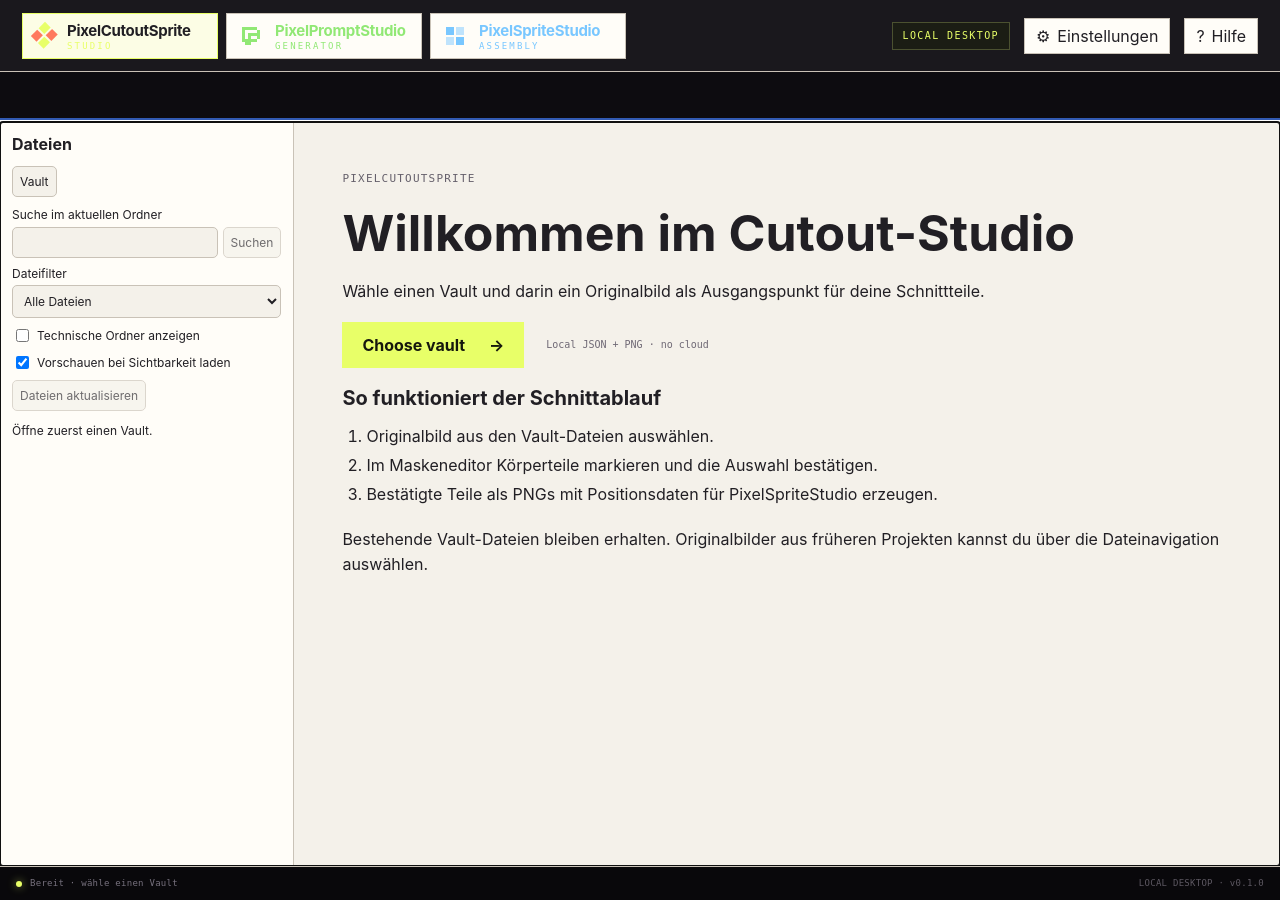
shared studio lifecycle after P37 › keeps Prompt active when its lifecycle flush fails
Click the button with aria-label "PixelPromptStudio Generator öffnen".
click(324, 36)  # box [226,12,422,58]
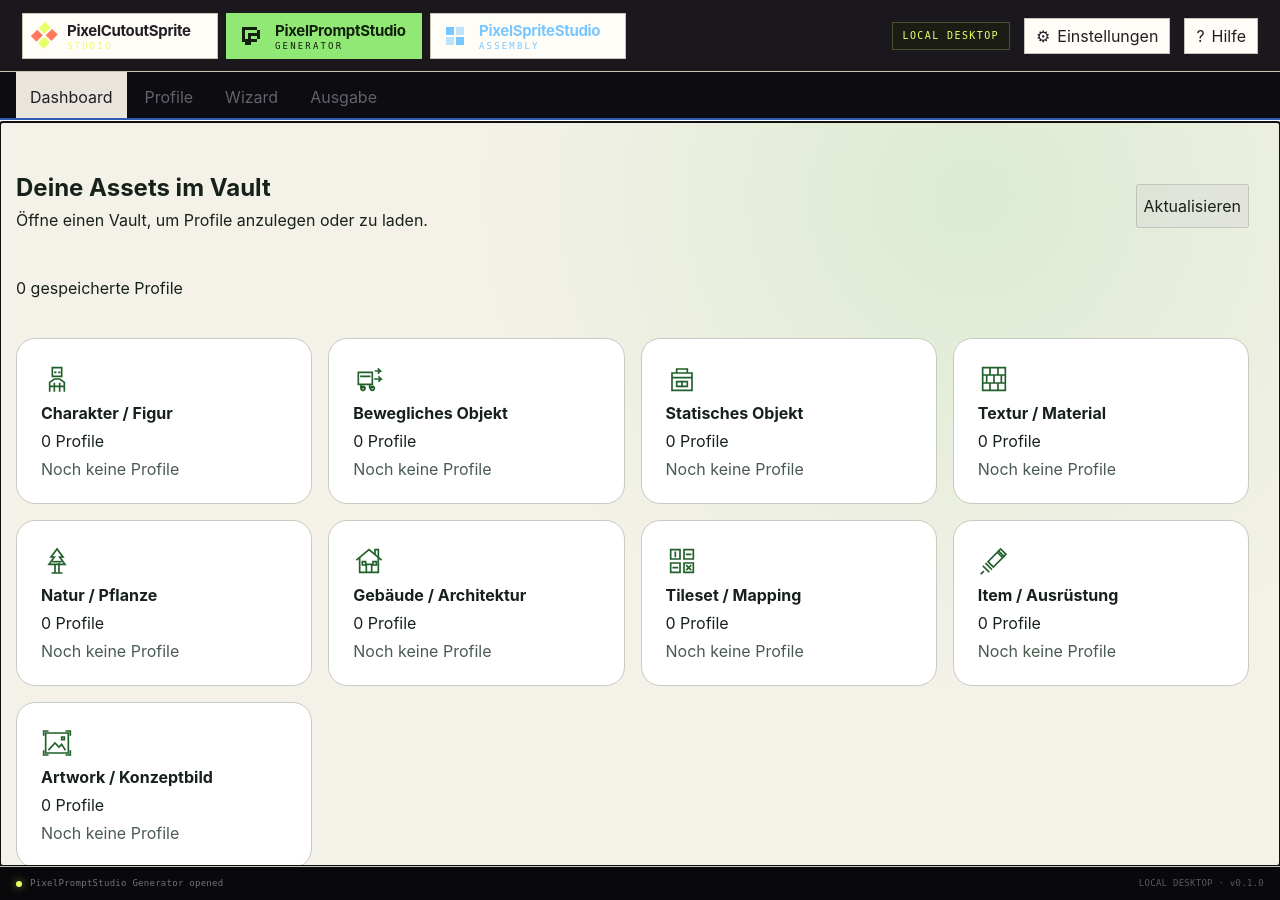
Now the element named "PixelPromptStudio Generator" is shown
Click the button with aria-label "PixelCutoutSprite Studio öffnen".
click(120, 36)  # box [22,12,218,58]
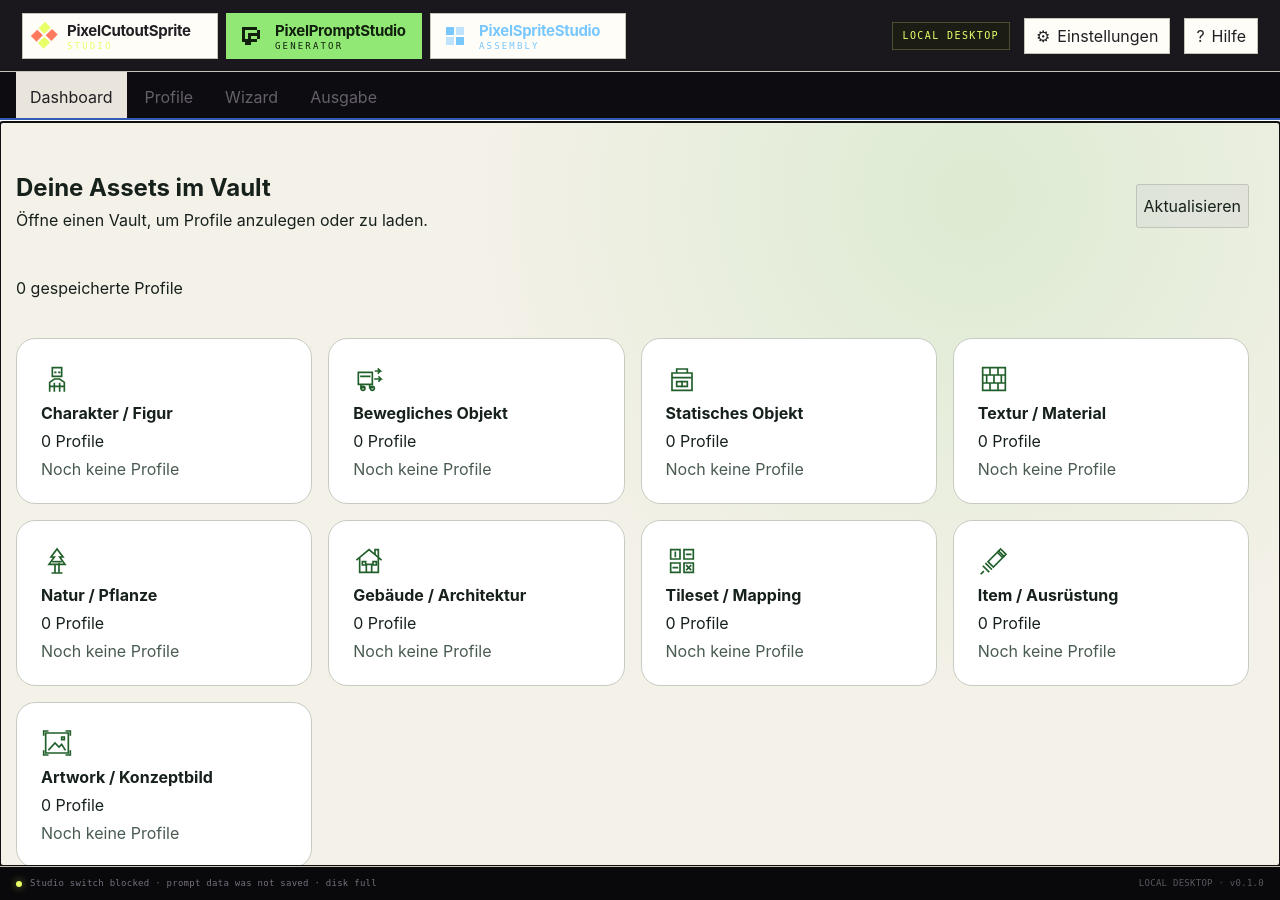
Now the footer shows "Studio switch blocked · prompt data was not saved · disk full", box [30,878,377,888]
